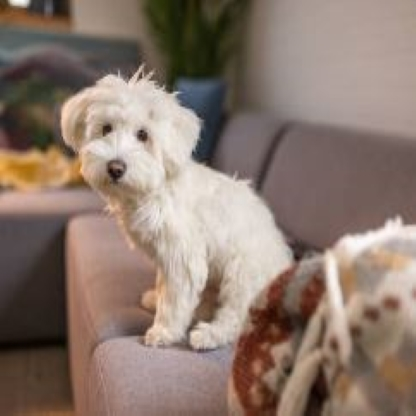maltese: (53, 66, 295, 351)
